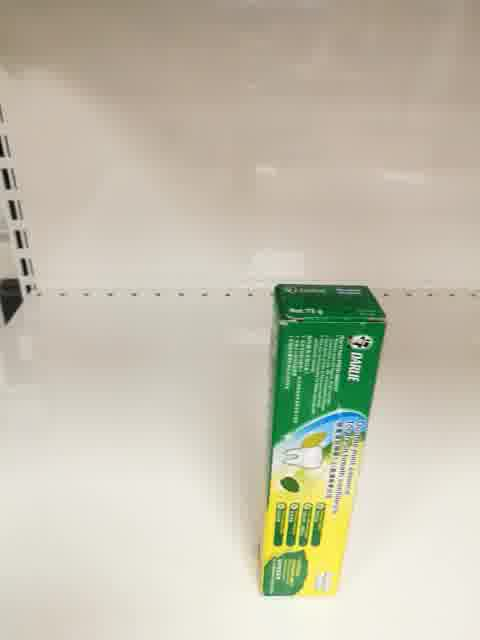toothpaste: (256, 283, 388, 596)
